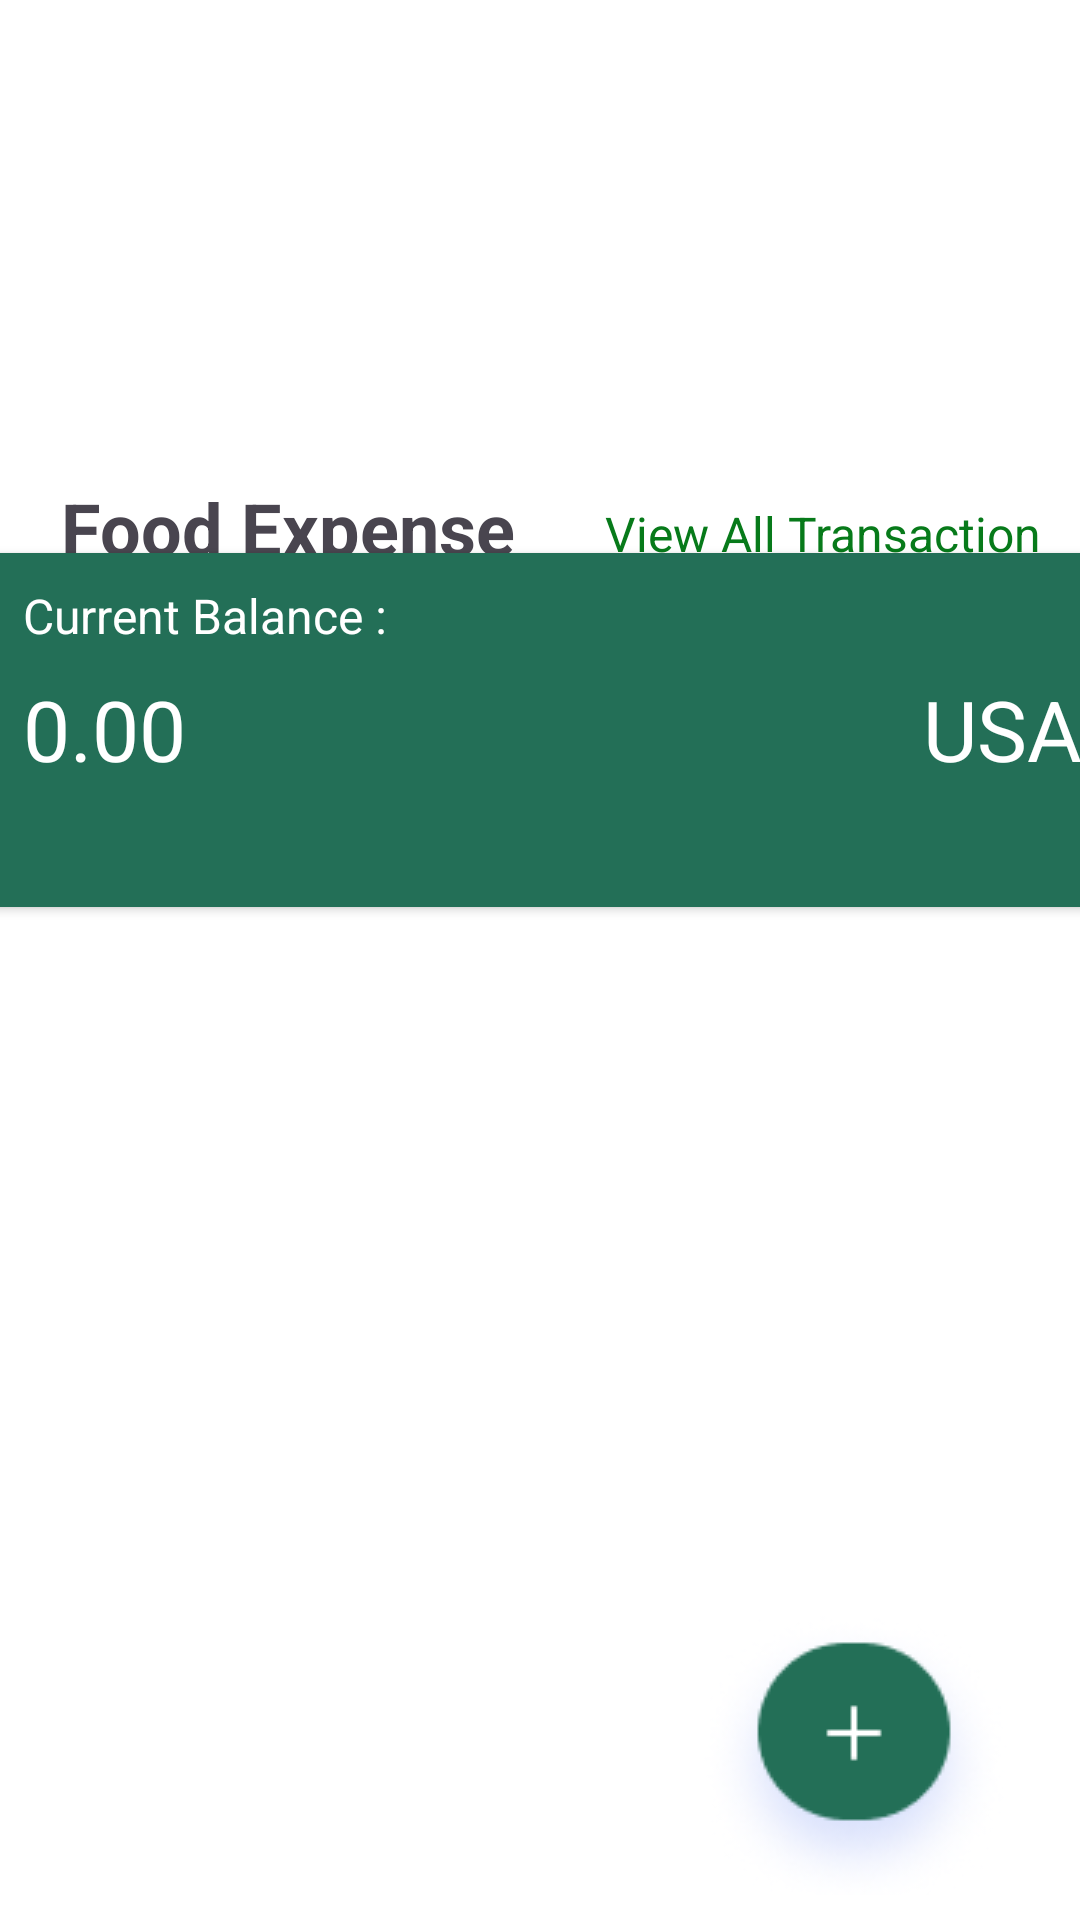

Icons on this 1080px×1920px Android screen, each with the point to tap as (x,y):
im add item: (854,1743)
